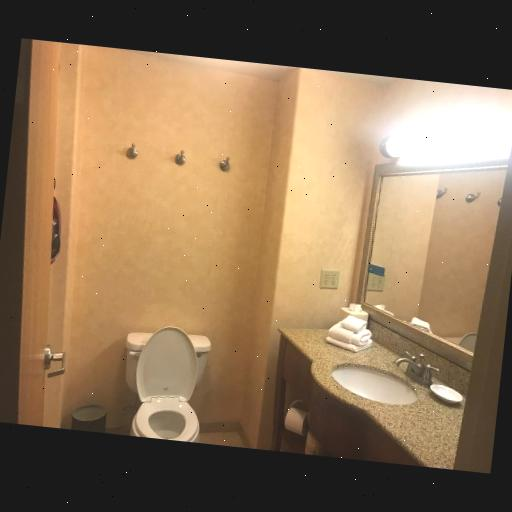clean mirror: (354, 159, 505, 366)
clean_sink: (275, 309, 470, 471)
clean_toilet: (118, 327, 216, 444)
folded_towel: (324, 312, 378, 356)
